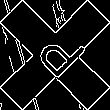P_SW: (24, 24, 86, 86)
